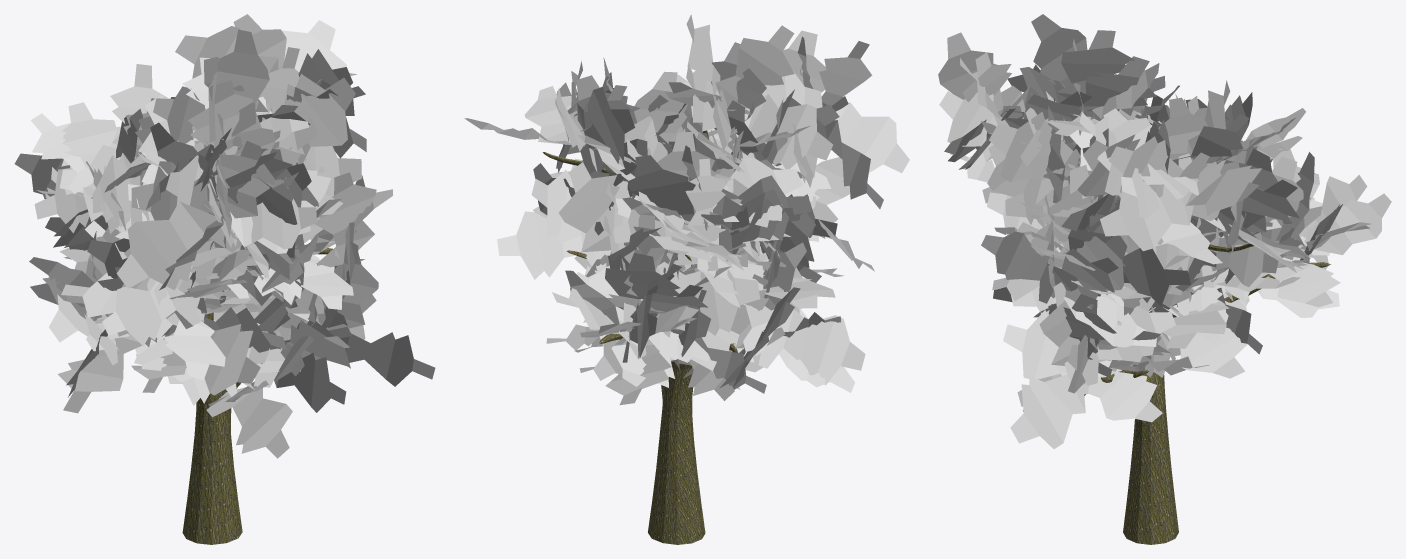
Rendered from Tree.fbx.
The picture shows the model from 3 angles, left to right: view 1: azimuth 30°, elevation 25°; view 2: azimuth 150°, elevation 25°; view 3: azimuth 270°, elevation 25°; orthographic projection. The views are drawn at different scales.
Visible parts, largest first — view 1: Tree Branch, Cube.001; view 2: Tree Branch, Cube.001; view 3: Tree Branch, Cube.001.
Part boxes in pixels (x1,y1,x2,y2): Tree Branch: (14, 14, 435, 458); Cube.001: (182, 248, 332, 544); Tree Branch: (464, 14, 909, 405); Cube.001: (543, 130, 737, 544); Tree Branch: (938, 14, 1391, 448); Cube.001: (1101, 243, 1330, 544).
Bounding box in the file's own units: 1091 × 1584 × 1283.
